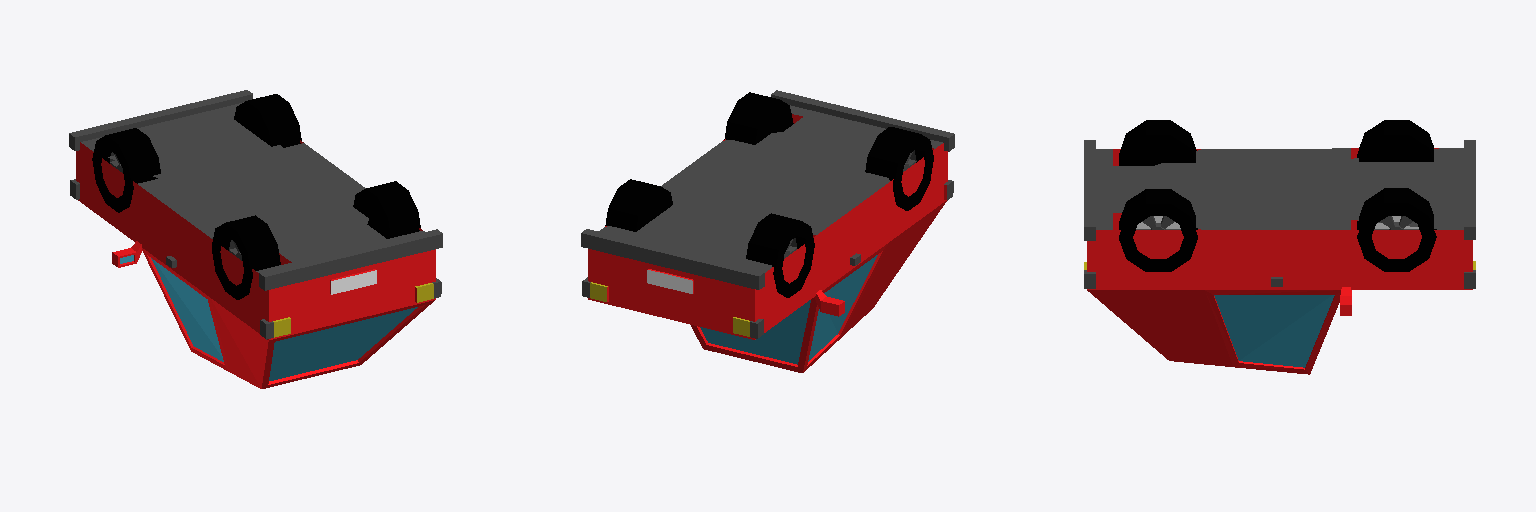
Rendered from car.obj.
3 views of the same model, side by side, from view 1: azimuth 30°, elevation 25°; view 2: azimuth 150°, elevation 25°; view 3: azimuth 270°, elevation 25° (orthographic).
Visible parts, largest first — view 1: Cube; view 2: Cube; view 3: Cube.
Boxes of the visible parts, <box> form: Cube: <box>69,90,442,388</box>; Cube: <box>581,90,954,372</box>; Cube: <box>1084,120,1475,374</box>.
Size of the model in its own units: 2.57 by 2.16 by 4.06.